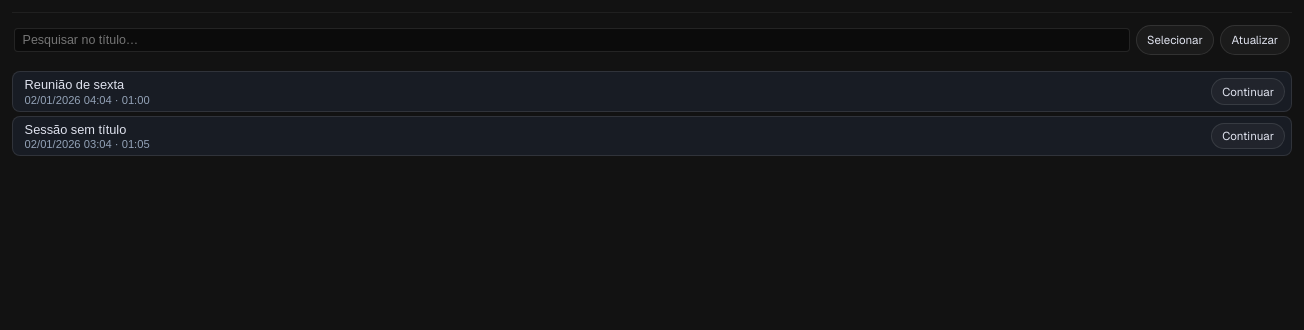
Test: HistoryPanel › copia o Markdown da sessão
Step 1. Click the text "Reunião de sexta" → (74, 84), box 25,77 -> 124,92
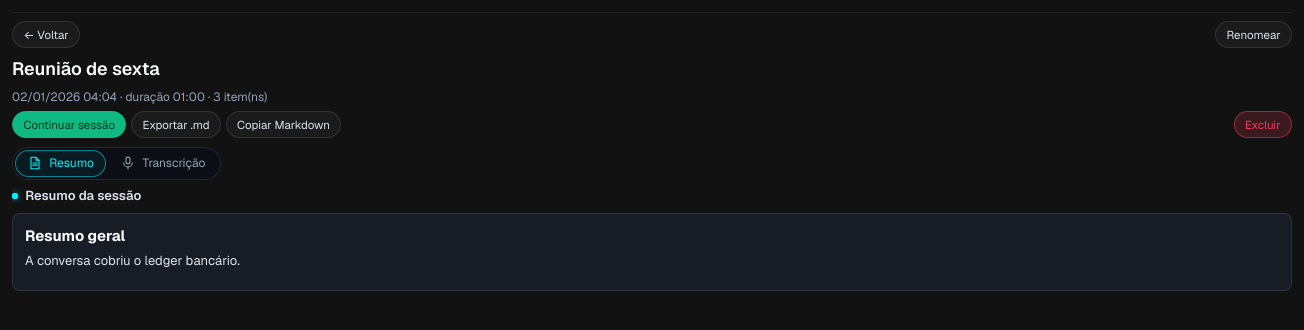
Step 2. Click the button "Copiar Markdown" → (284, 124), box 226,111 -> 341,138
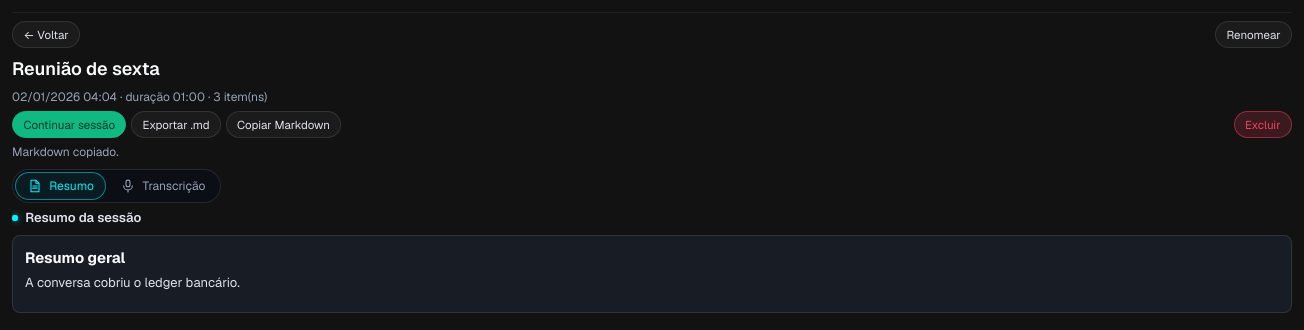
Now the text "Markdown copiado." is shown, box 12,144 -> 119,160
